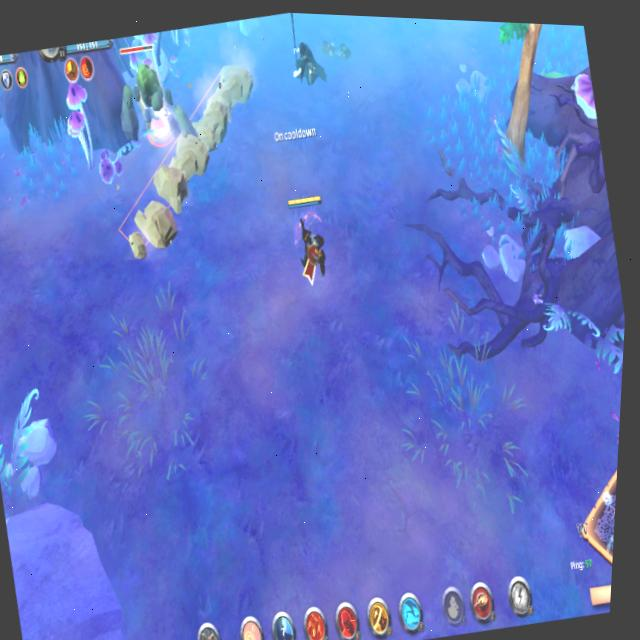ore: (99, 25, 209, 174), (271, 12, 341, 106)
red: (276, 185, 343, 298)
silver: (88, 43, 290, 267)
wisp caged: (469, 21, 609, 174)
